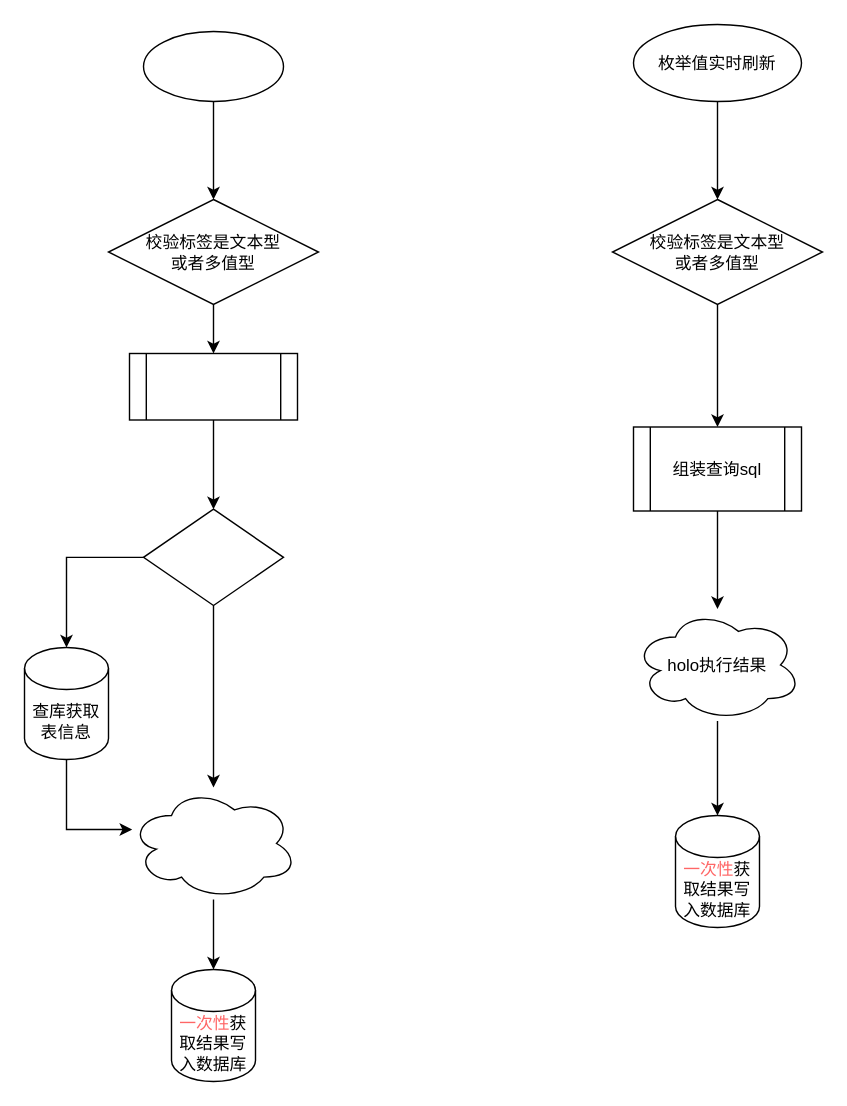
Some shapes in this 847 by 1106 pixel diagram are drawn without their labels. The centre of each missing label's shape, as x and y in pixels:
判断是否 是导入标签: point (213, 557)
枚举值离线刷新: point (213, 66)
组装sql odps执行: point (213, 842)
获取标签表pt信息: point (213, 386)
